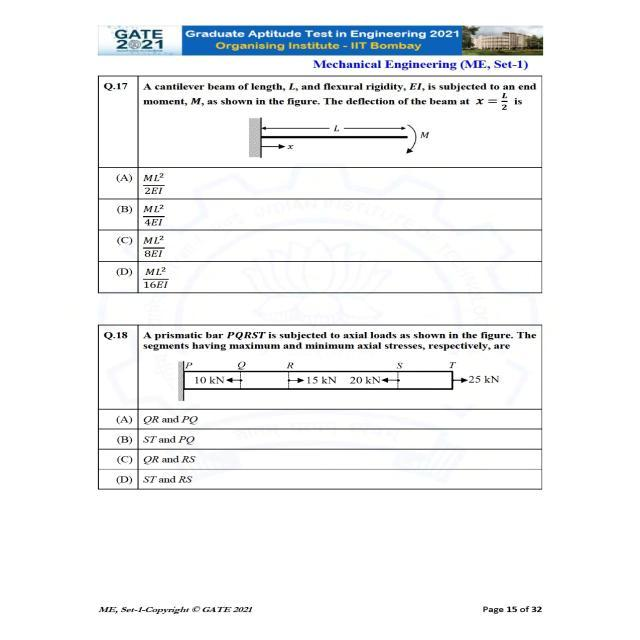Answer_Block: (59, 169, 581, 302), (59, 412, 581, 530)
Question_Answer_Block: (59, 69, 581, 302), (59, 314, 581, 530)
Question_Block: (59, 69, 581, 168), (59, 314, 581, 413)
Question_Paper_Area: (59, 70, 581, 530)
